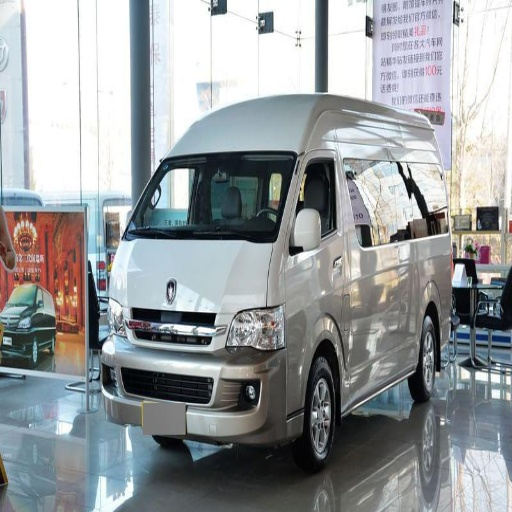front_bumper: (101, 305, 307, 442)
front_glass: (124, 152, 295, 243)
front_left_door: (286, 148, 339, 278), (346, 295, 400, 401)
trunk: (365, 239, 453, 323)
